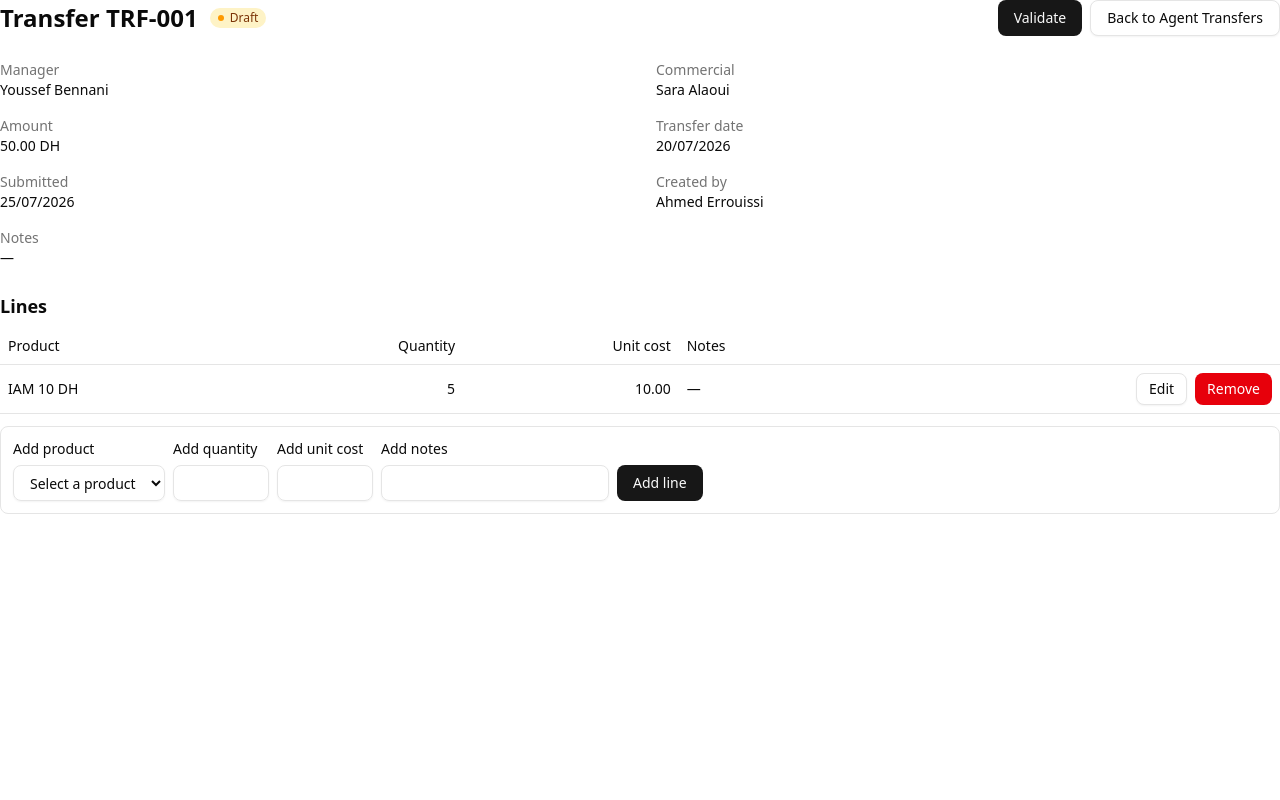
it: Validate — freshness rule (M4 · G4 closure) and error codes › blocks confirm when the fresh read shows the transfer already processed
This screenshot has width=1280, height=800.
Click the button "Validate" at (1040, 18), box [998,0,1082,36]
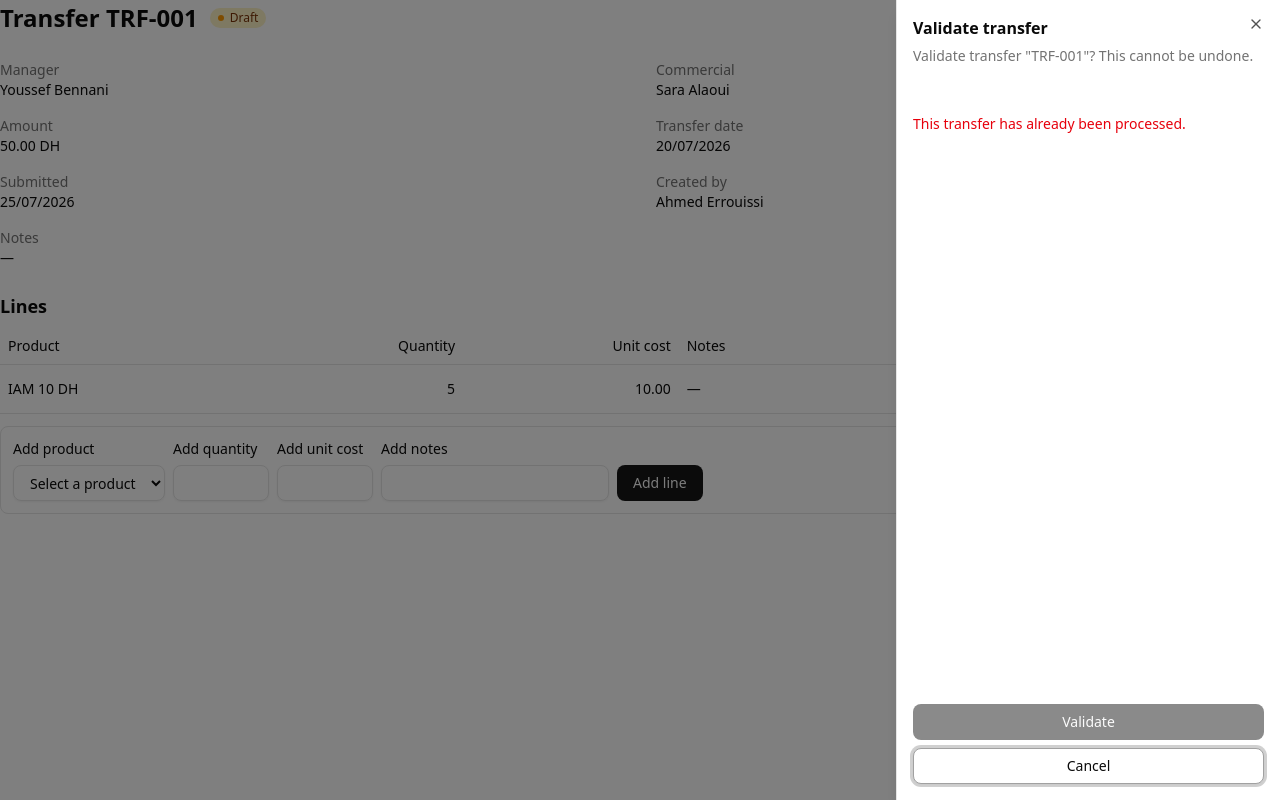
Now the text "This transfer has already been processed." is shown, box [913,114,1186,133]
Now the button "Validate" is disabled, box [913,704,1264,740]
